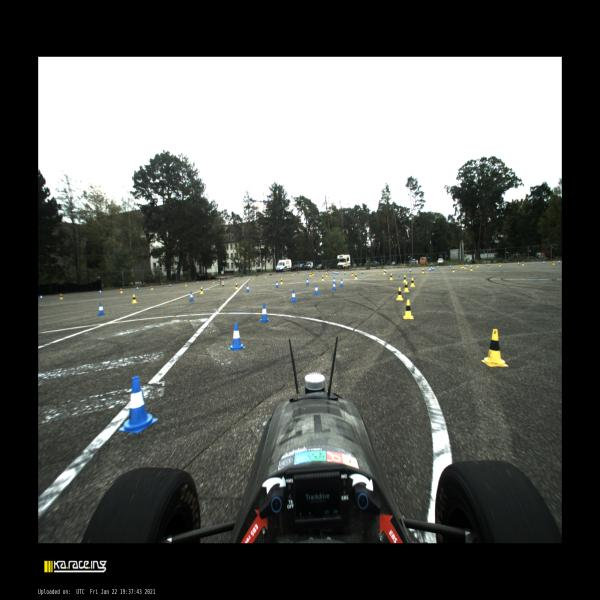blue_cone: (118, 376, 158, 433), (228, 323, 245, 350), (259, 303, 270, 322), (98, 303, 105, 315), (290, 290, 297, 302), (314, 284, 319, 294), (189, 292, 194, 301), (246, 284, 250, 292), (340, 278, 344, 286), (332, 283, 336, 290), (332, 277, 336, 284), (276, 281, 280, 287), (306, 279, 309, 285), (40, 294, 42, 300), (99, 290, 102, 294), (361, 270, 364, 274), (409, 268, 412, 272), (384, 268, 386, 273), (332, 270, 334, 274), (344, 271, 346, 275), (429, 267, 431, 271), (558, 260, 560, 264), (169, 284, 171, 287), (294, 272, 296, 275), (466, 264, 468, 267), (487, 263, 489, 266), (543, 261, 545, 264), (137, 286, 138, 290), (250, 276, 252, 278), (432, 268, 434, 270), (328, 271, 330, 273), (431, 266, 432, 270), (197, 281, 198, 284), (219, 279, 220, 282), (236, 277, 237, 280), (334, 271, 335, 274), (336, 271, 337, 274), (337, 271, 338, 274), (450, 265, 451, 268), (518, 262, 519, 265), (306, 272, 307, 274), (317, 272, 318, 274), (264, 275, 264, 277), (280, 274, 280, 276), (438, 266, 438, 268)
yellow_cone: (481, 329, 508, 367), (403, 300, 414, 319), (396, 287, 403, 300), (132, 294, 137, 304), (404, 282, 409, 292), (410, 278, 415, 287), (200, 287, 204, 294), (389, 273, 393, 280), (354, 274, 358, 280), (403, 274, 406, 282), (235, 283, 238, 289), (280, 278, 283, 284), (120, 288, 123, 294), (383, 269, 386, 275), (470, 265, 473, 271), (325, 272, 328, 277), (60, 294, 63, 299), (351, 271, 354, 276), (322, 275, 324, 281), (422, 268, 424, 274), (452, 268, 455, 272), (309, 273, 312, 276), (151, 286, 153, 290), (185, 282, 187, 286), (213, 279, 215, 283), (462, 264, 464, 268), (464, 265, 466, 269), (522, 262, 524, 266), (553, 260, 555, 264), (252, 276, 254, 279), (312, 272, 314, 275), (460, 265, 462, 268), (237, 278, 239, 280), (292, 273, 294, 275), (265, 275, 266, 278), (304, 272, 305, 275), (477, 264, 478, 267), (499, 263, 500, 266), (278, 274, 279, 276)
